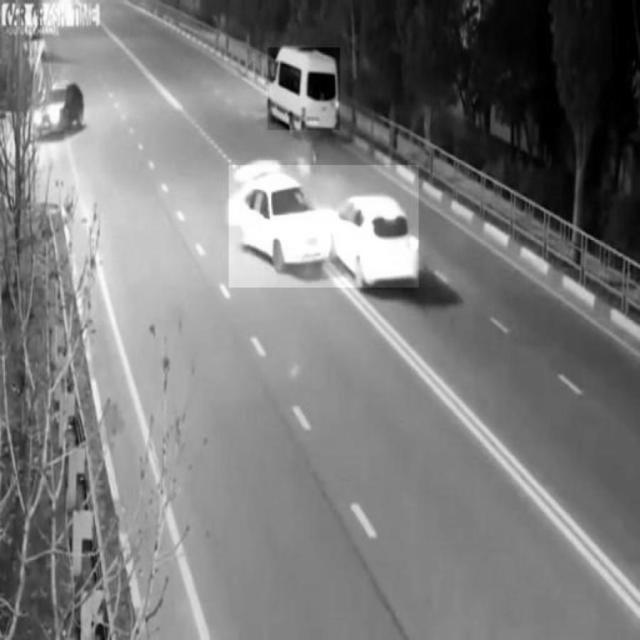accident: (229, 165, 419, 287)
vehicle: (268, 48, 340, 130), (30, 83, 86, 140)
